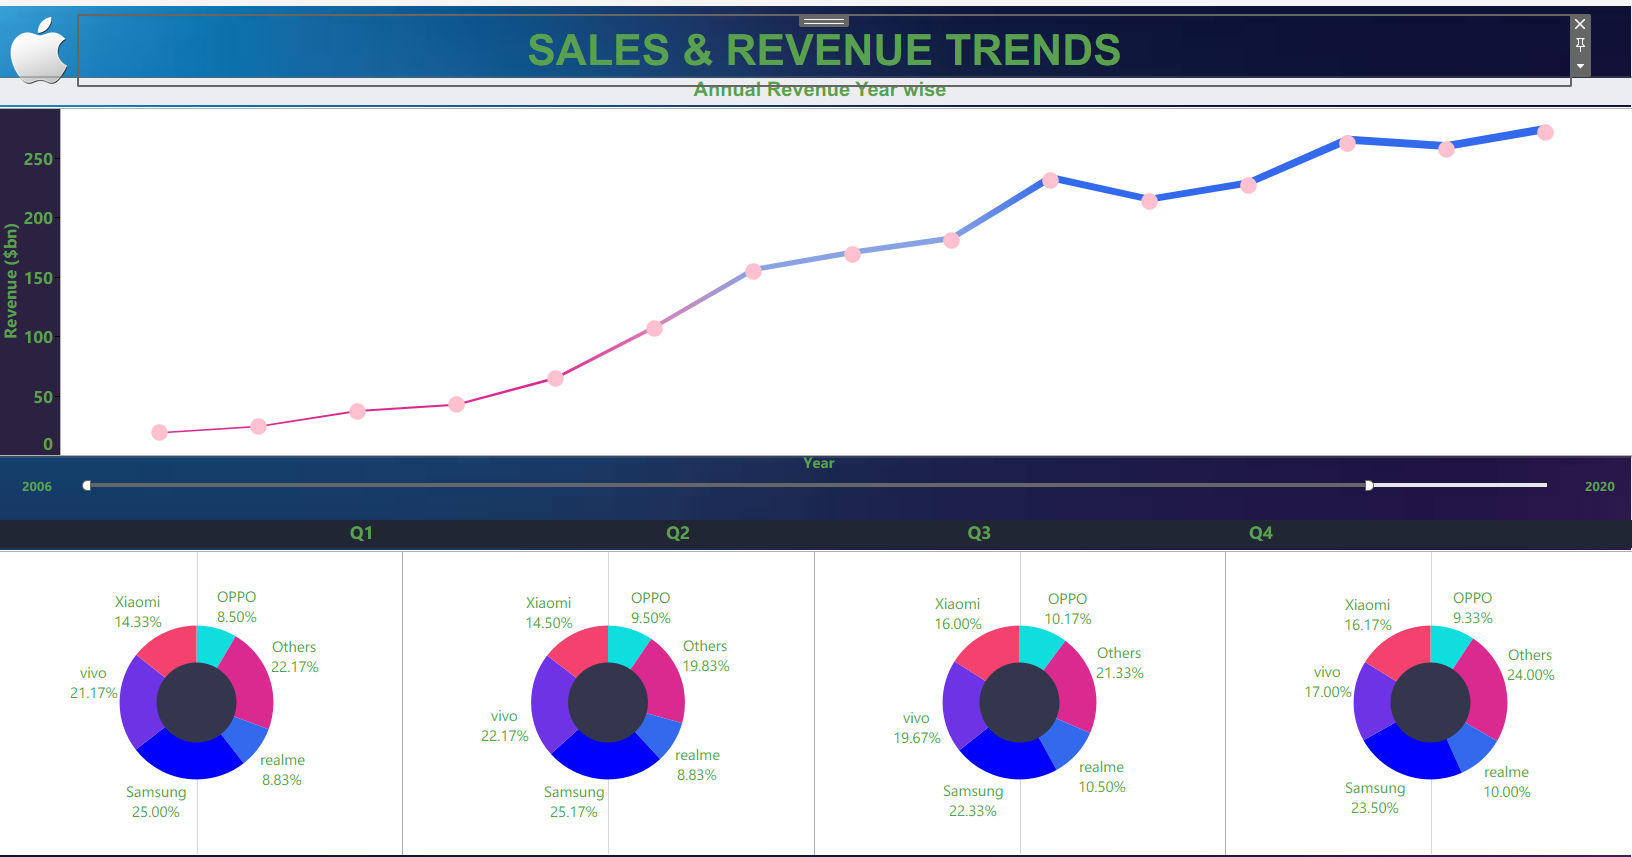

What the dashboard file says about the page in this screenshot:
{"tool":"tableau","page":{"name":"Sales & Revenue Trends Dashboard","canvas":[1000,1000],"units":"permille","ordinal":3},"visuals":[{"type":"image","param":"Image/apple-logo-silver-gradient-background-ucqyu9mach40quya.png","box":[6.2,11.6,48,80.1]},{"type":"text","box":[54.2,11.6,899.7,81.3]},{"type":"worksheet","title":"Line Chart","mark":"Automatic","rows":["Revenue ($bn)","Revenue ($bn)"],"cols":["Year"],"box":[3.7,84.8,995.6,443.7]},{"type":"filter","title":"Line Chart","param":"[federated.1h6ibz302k1zxz15kuusk0qlljiq].[none:Year:qk]","box":[3.7,523.8,994.4,74.3]},{"type":"worksheet","title":"Donut Chart","mark":"Pie","cols":["Calculation_525795279736291330","Calculation_525795279737851915","Calculation_525795279736291330","Calculation_525795279737851915","Calculation_525795279736291330","Calculation_525795279737851915","Calculation_525795279736291330","Calculation_525795279737458693"],"box":[1.2,604,993.2,393.7]}]}

Visuals, with their boxes on the dashboard's canvas, which has no fixed pixel size, in thousandths of its width and height (x1, y1, x2, y2). These are canvas units, not pixel positions in the 1632x857 screenshot, which may show the page scaled, cropped or inside an application window:
image: box(6, 12, 54, 92)
text: box(54, 12, 954, 93)
"Line Chart" worksheet: box(4, 85, 999, 528)
"Line Chart" filter: box(4, 524, 998, 598)
"Donut Chart" worksheet (Pie marks): box(1, 604, 994, 998)
